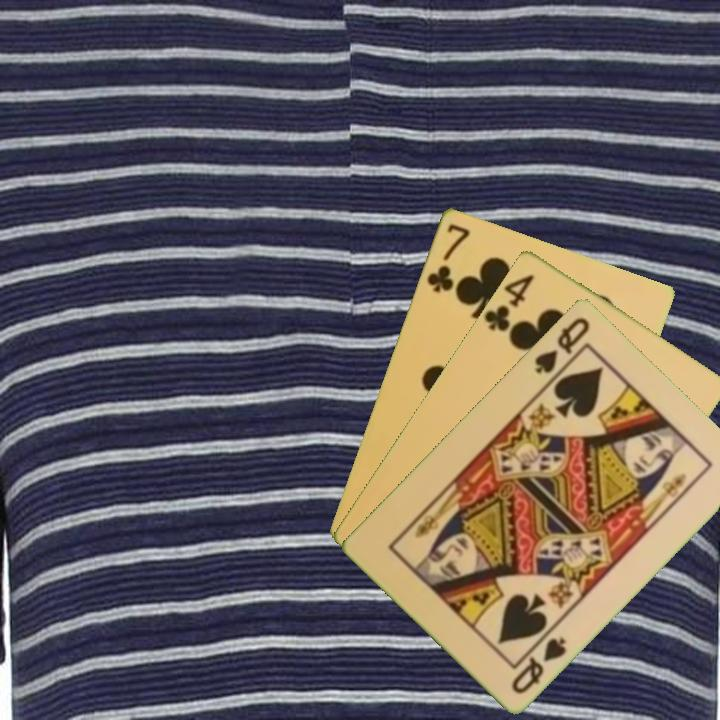4c: (480, 269, 537, 334)
7c: (423, 219, 473, 296)
Qs: (507, 625, 569, 697), (531, 313, 593, 376)
